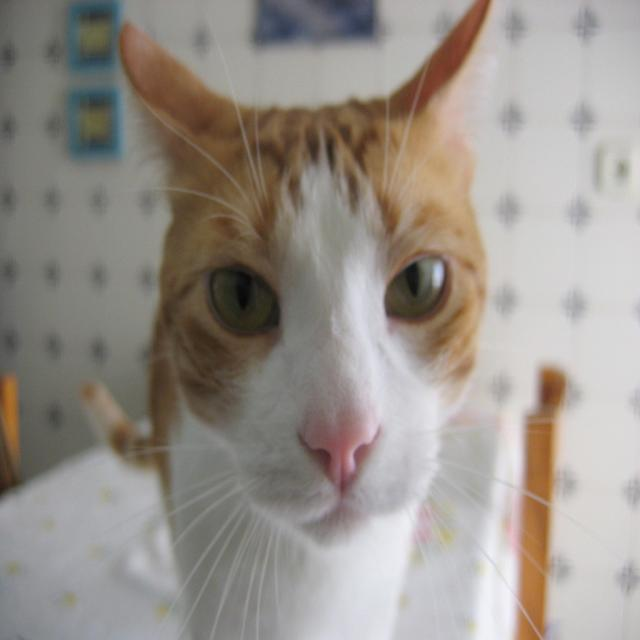cat: (81, 2, 545, 638)
